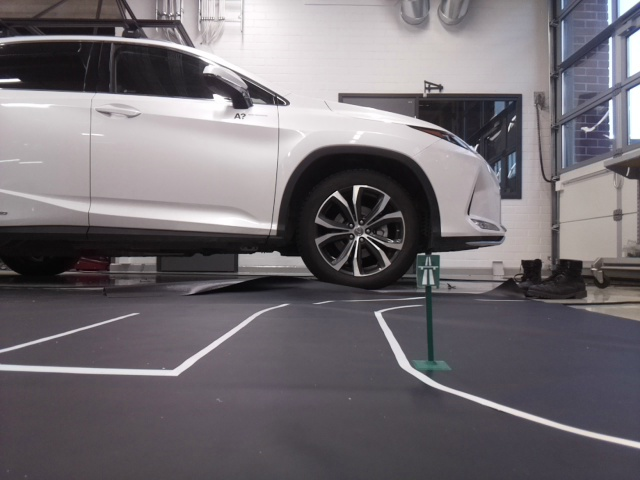HighwayEntrance: (416, 254, 438, 286)
